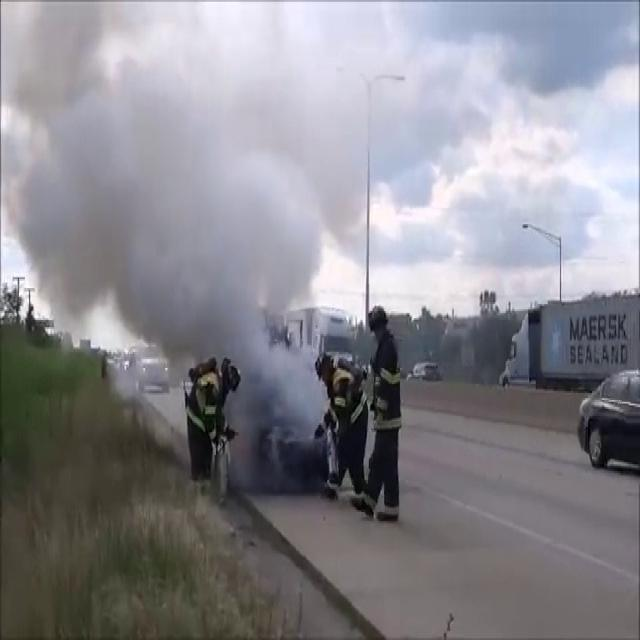Smoke: (1, 1, 339, 492)
